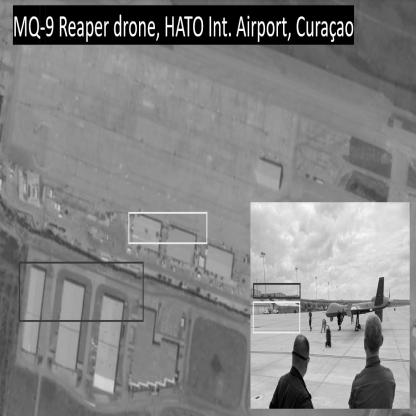MQ9: (323, 277, 394, 332)
